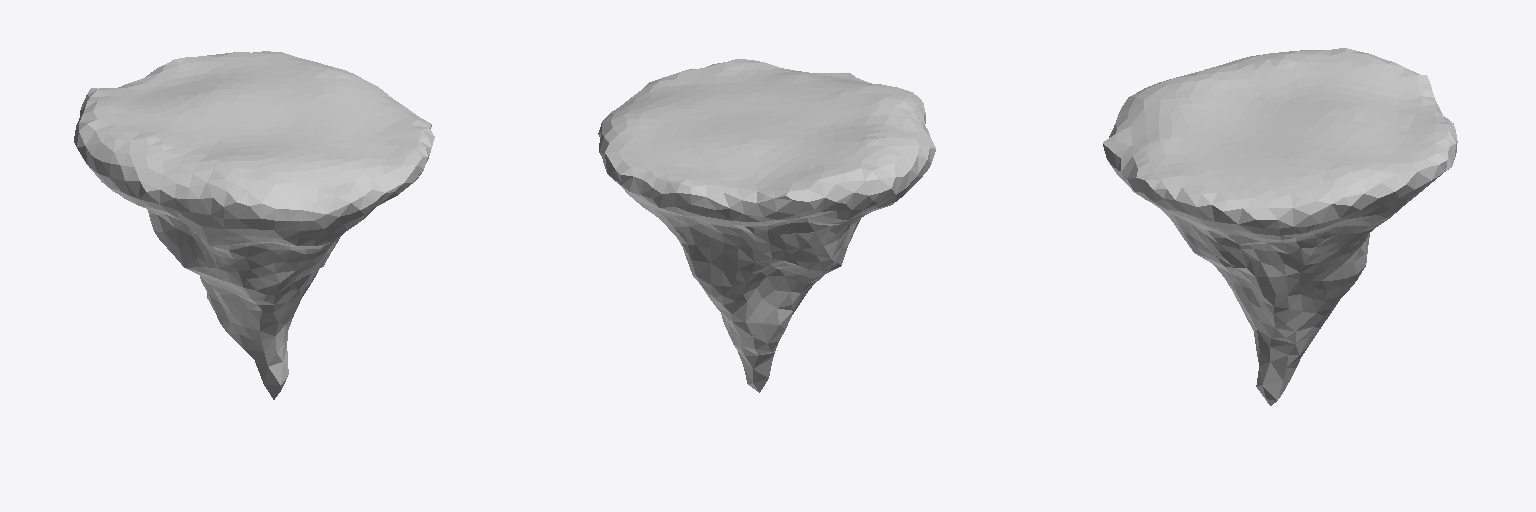
Rendered from FloatingIsland.obj.
The picture shows the model from 3 angles: view 1: azimuth 30°, elevation 25°; view 2: azimuth 150°, elevation 25°; view 3: azimuth 270°, elevation 25°; orthographic projection.
Visible parts, largest first — view 1: Icosphere; view 2: Icosphere; view 3: Icosphere.
Boxes of the visible parts, x1=… form: Icosphere: x1=74, y1=51, x2=434, y2=399; Icosphere: x1=598, y1=59, x2=935, y2=392; Icosphere: x1=1103, y1=48, x2=1457, y2=405.
Bounding box in the file's own units: 41.95 × 38.16 × 42.66.